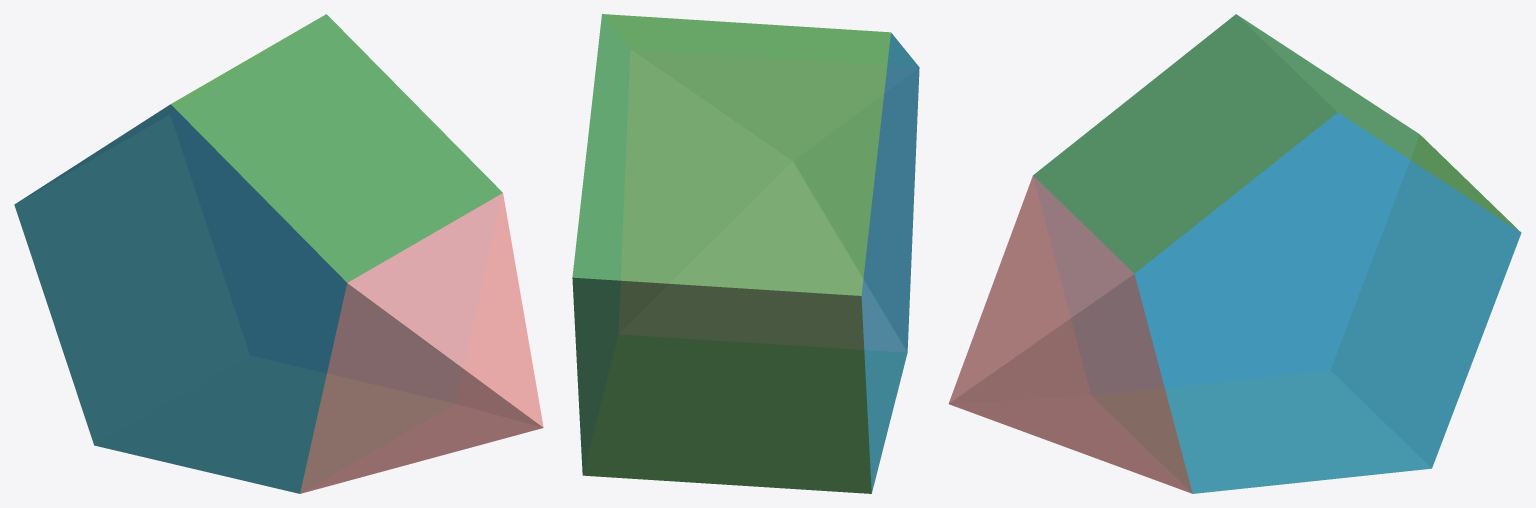
Rendered from j52_augmented_pentagonal_prism.obj.
3 renders of one model, left to right at view 1: azimuth 30°, elevation 25°; view 2: azimuth 150°, elevation 25°; view 3: azimuth 270°, elevation 25°, orthographic. The views are drawn at different scales.
Size of the model in its own units: 1.51 by 1.55 by 2.15.
